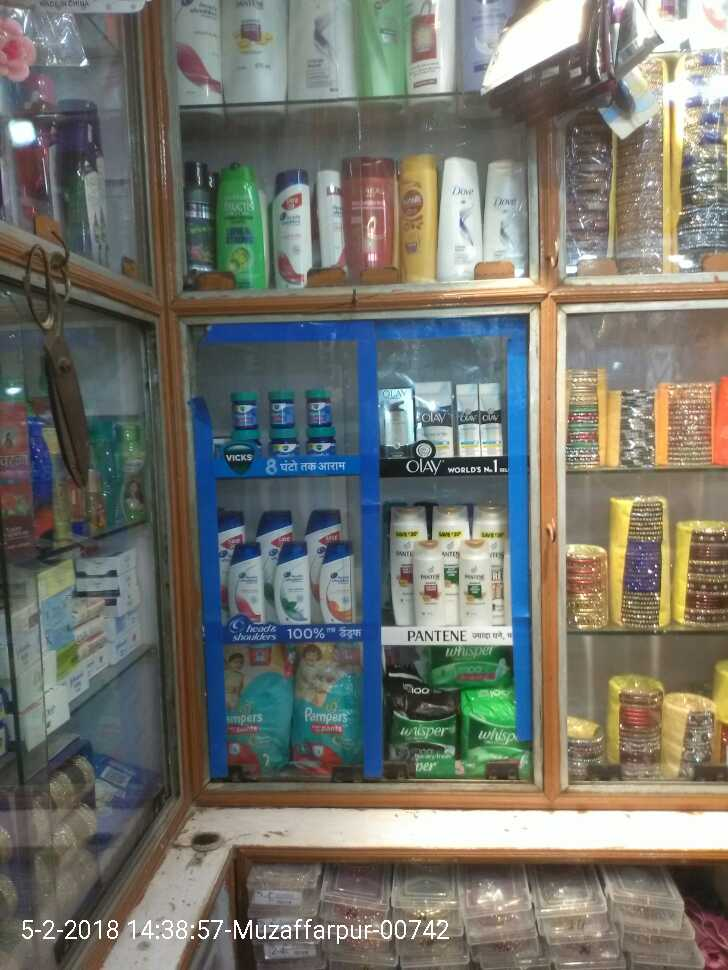vicks: (225, 387, 344, 462)
